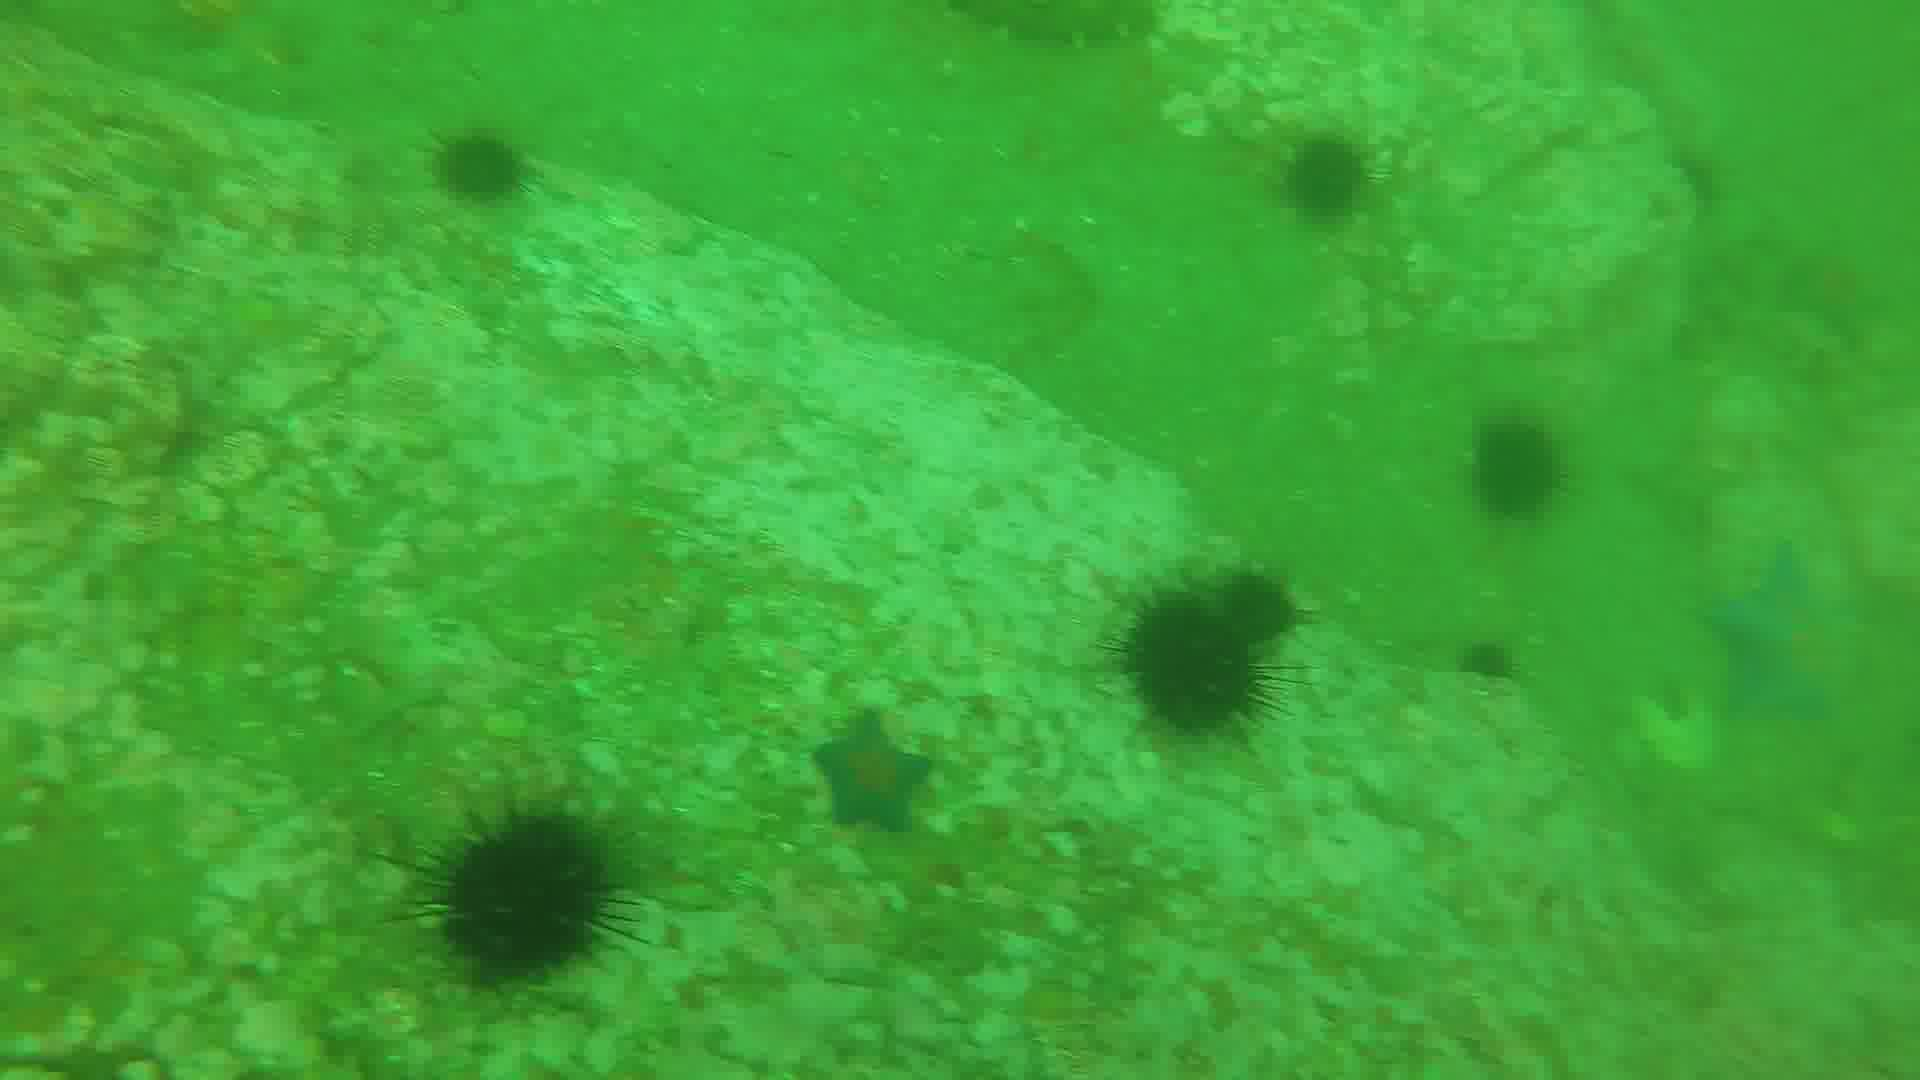echinus: (418, 808, 637, 985), (1100, 588, 1295, 756), (1462, 415, 1577, 527), (422, 119, 535, 211), (1276, 127, 1370, 224), (1218, 566, 1311, 654), (1451, 636, 1530, 707)
holothurian: (927, 1, 1168, 53)
starfish: (1712, 541, 1865, 727), (818, 717, 934, 832)
